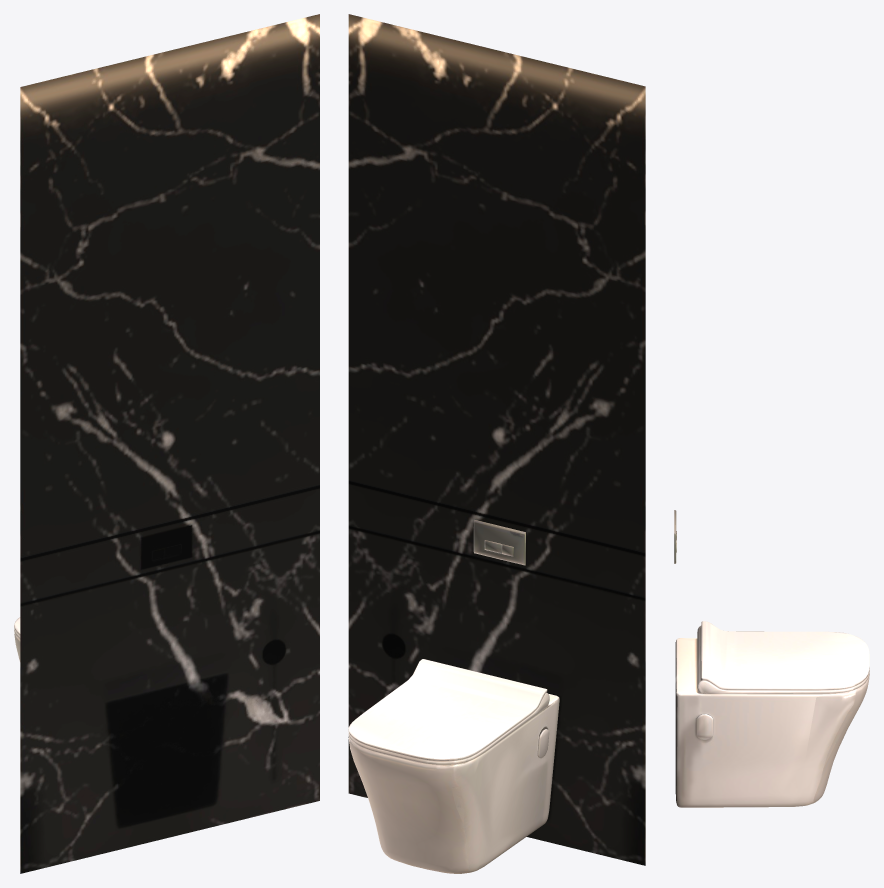
The model's file is cora_vortex.glb.
3 renders of one model, left to right at view 1: azimuth 30°, elevation 25°; view 2: azimuth 150°, elevation 25°; view 3: azimuth 270°, elevation 25°, orthographic. The views are drawn at different scales.
Parts seen in each view (by area): view 1: cora_vortex; view 2: cora_vortex; view 3: cora_vortex.
Part boxes in pixels (x1,y1,x2,y2): cora_vortex: (14,14,319,873); cora_vortex: (348,14,645,873); cora_vortex: (674,510,869,807).
Size of the model in its own units: 1.22 by 3.05 by 0.7445.
1 material, 1 textured.
